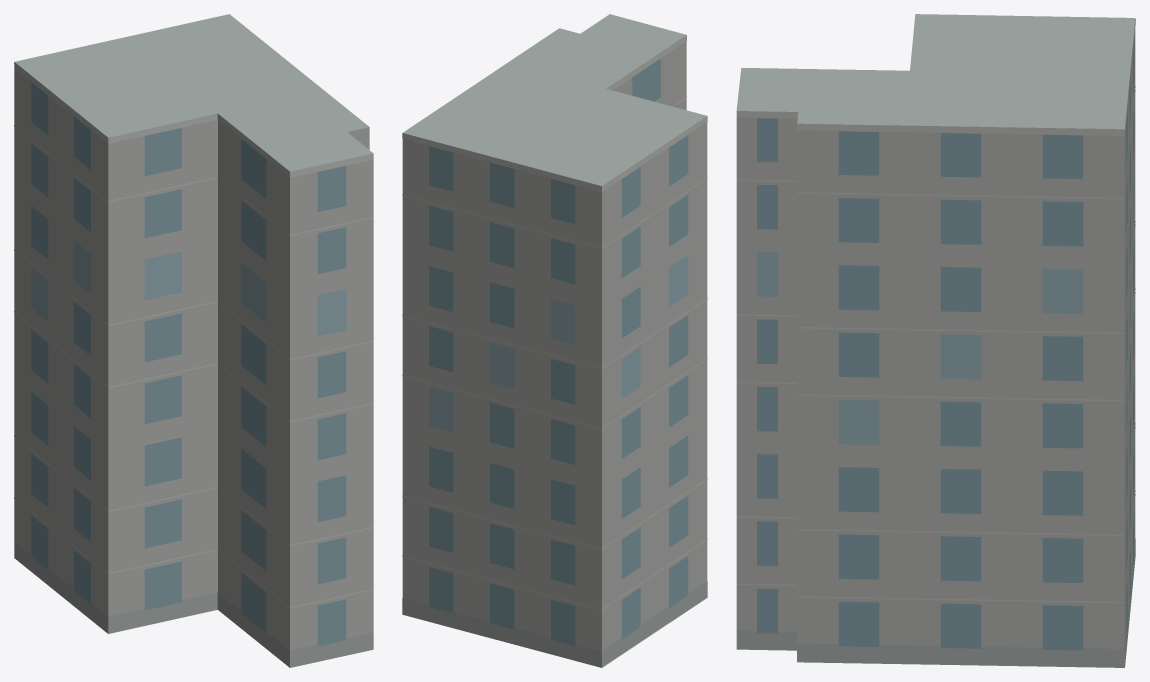
File: survey-upis-32908225.glb
3 views of the same model, side by side, from view 1: azimuth 30°, elevation 25°; view 2: azimuth 150°, elevation 25°; view 3: azimuth 270°, elevation 25° (orthographic). The views are drawn at different scales.
Parts seen in each view (by area): view 1: survey-upis-32908225.tmp; view 2: survey-upis-32908225.tmp; view 3: survey-upis-32908225.tmp.
Part boxes in pixels (bbox=[...]): survey-upis-32908225.tmp: bbox=[14, 14, 373, 667]; survey-upis-32908225.tmp: bbox=[402, 14, 707, 667]; survey-upis-32908225.tmp: bbox=[736, 14, 1135, 667].
Bounding box in the file's own units: 8.89 × 19.3 × 12.98.
